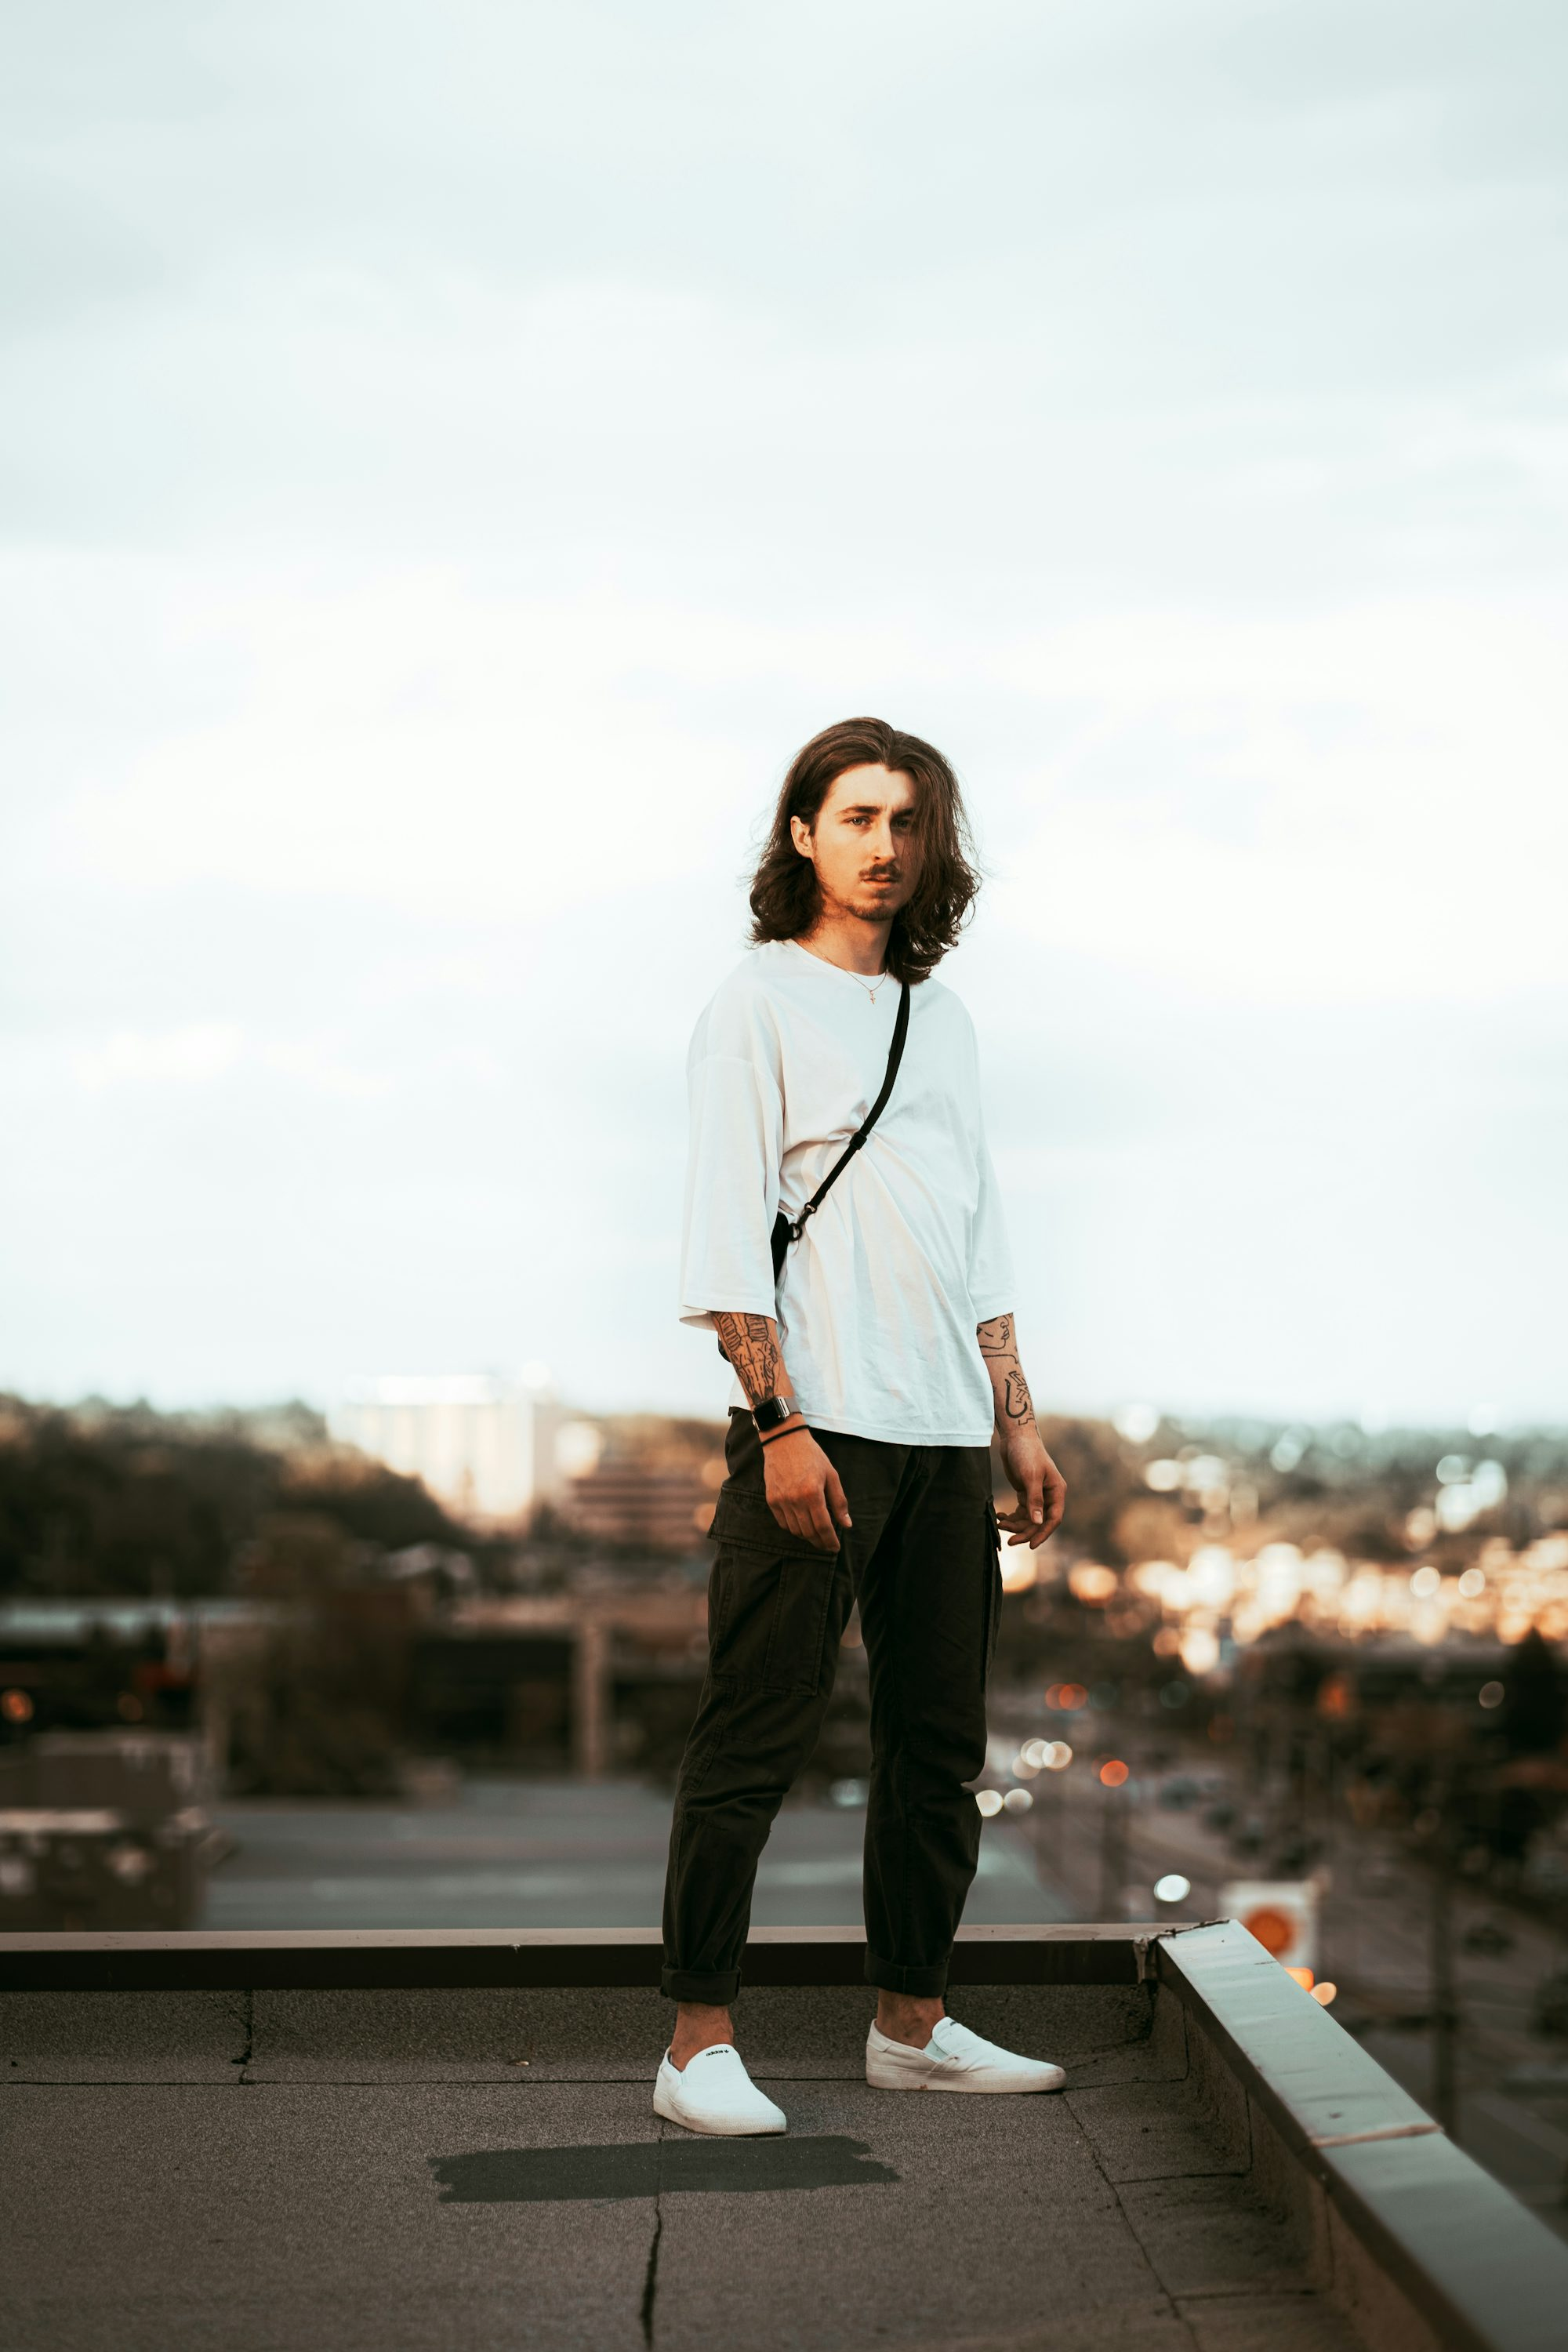person: (571, 710, 1155, 2136)
